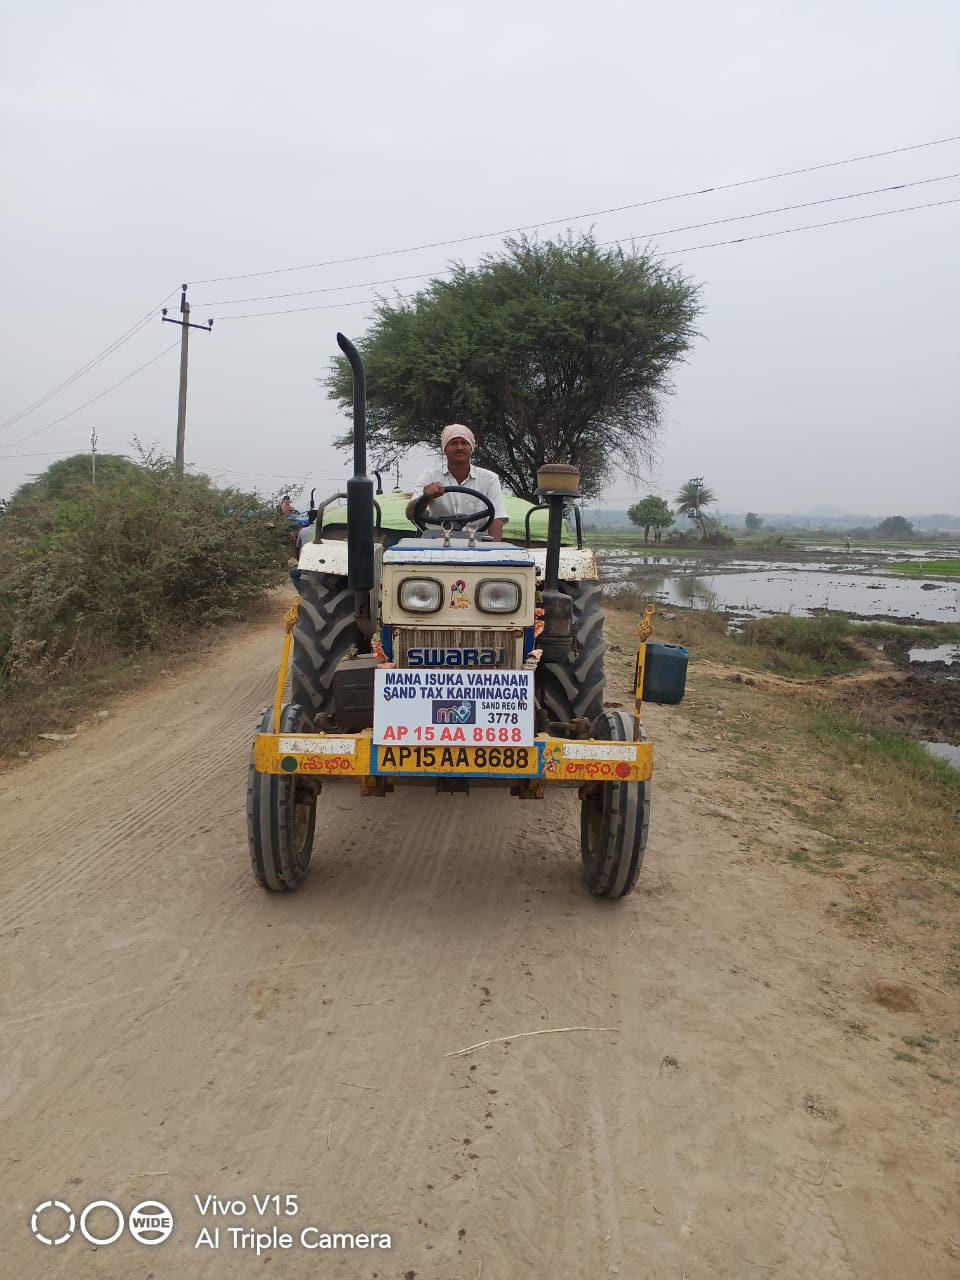license_plate: (365, 741, 551, 790)
